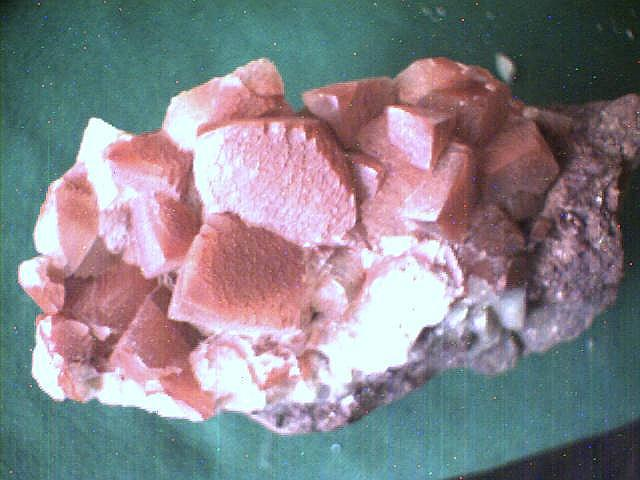calcite: (19, 57, 561, 334)
